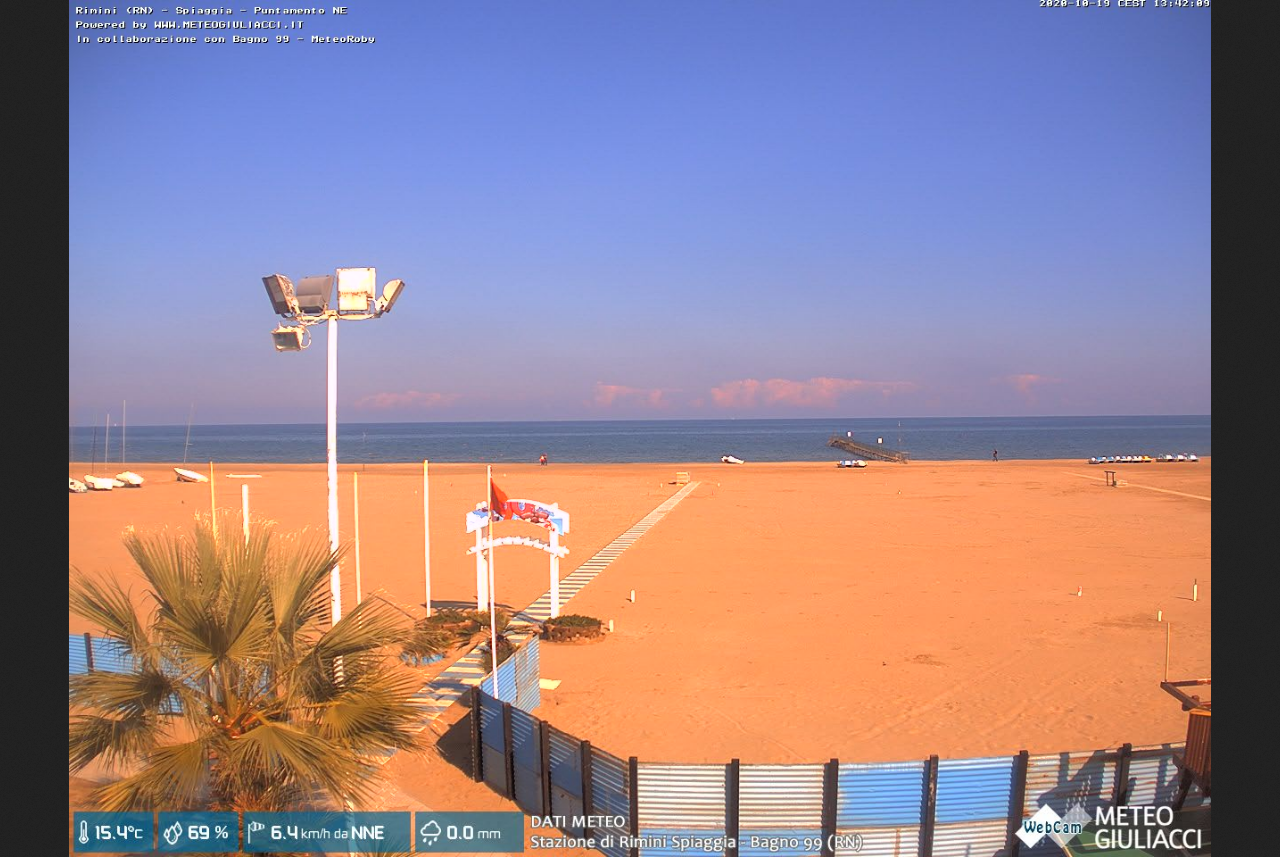maybe: (485, 478, 534, 528)
